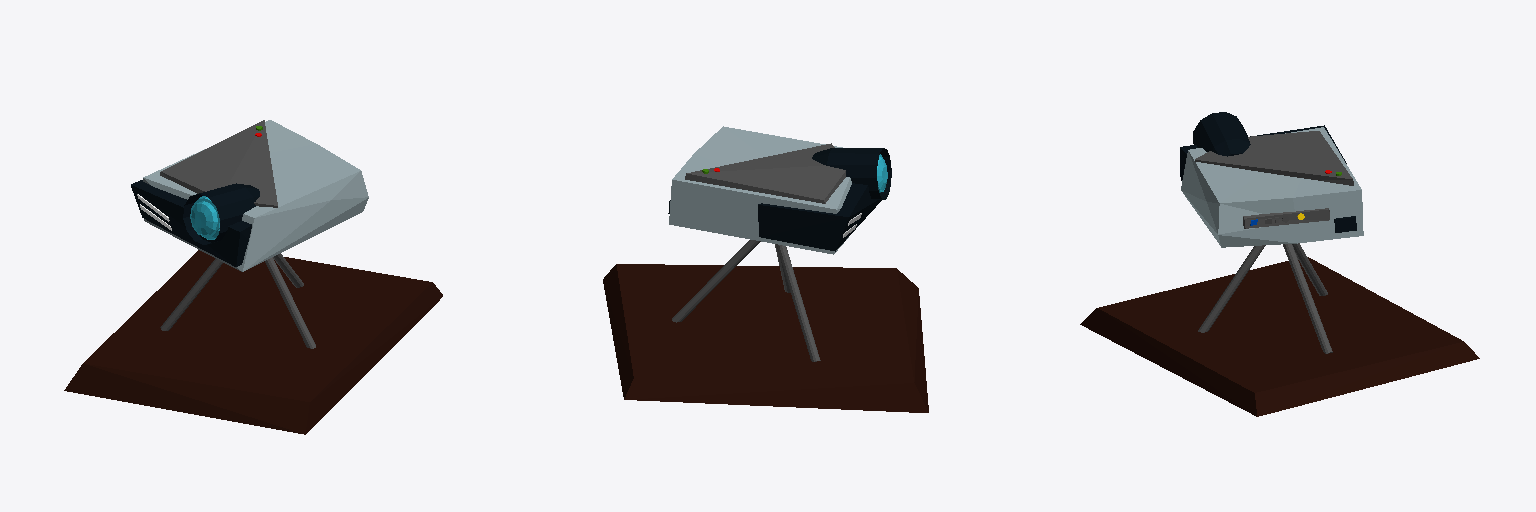
3 views of the same model, side by side, from view 1: azimuth 30°, elevation 25°; view 2: azimuth 150°, elevation 25°; view 3: azimuth 270°, elevation 25° (orthographic).
Parts seen in each view (by area): view 1: group[number redacted], group[number redacted]; view 2: group[number redacted], group[number redacted]; view 3: group[number redacted], group[number redacted].
Part boxes in pixels (x1,y1,x2,y2): group[number redacted]: (64, 250, 442, 434); group[number redacted]: (131, 120, 368, 348); group[number redacted]: (603, 264, 928, 412); group[number redacted]: (668, 126, 891, 361); group[number redacted]: (1080, 257, 1479, 416); group[number redacted]: (1180, 112, 1363, 353).
Size of the model in its own units: 0.5648 by 0.3149 by 0.5547.